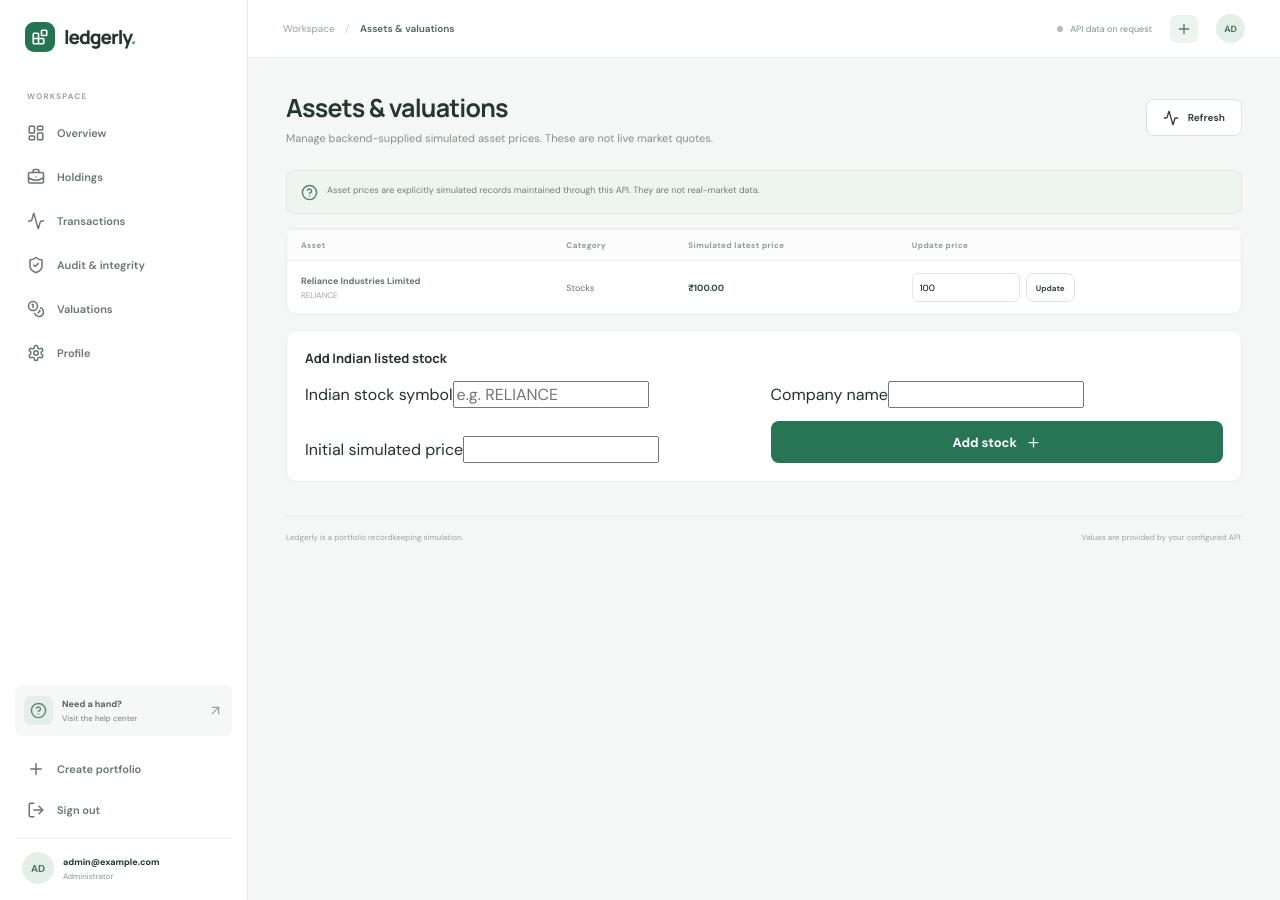
it: admin asset price controls › shows the backend 403 response clearly to an admin when a price update is forbidden
Click the button "Update" at (1050, 288), box [1026,273,1075,302]
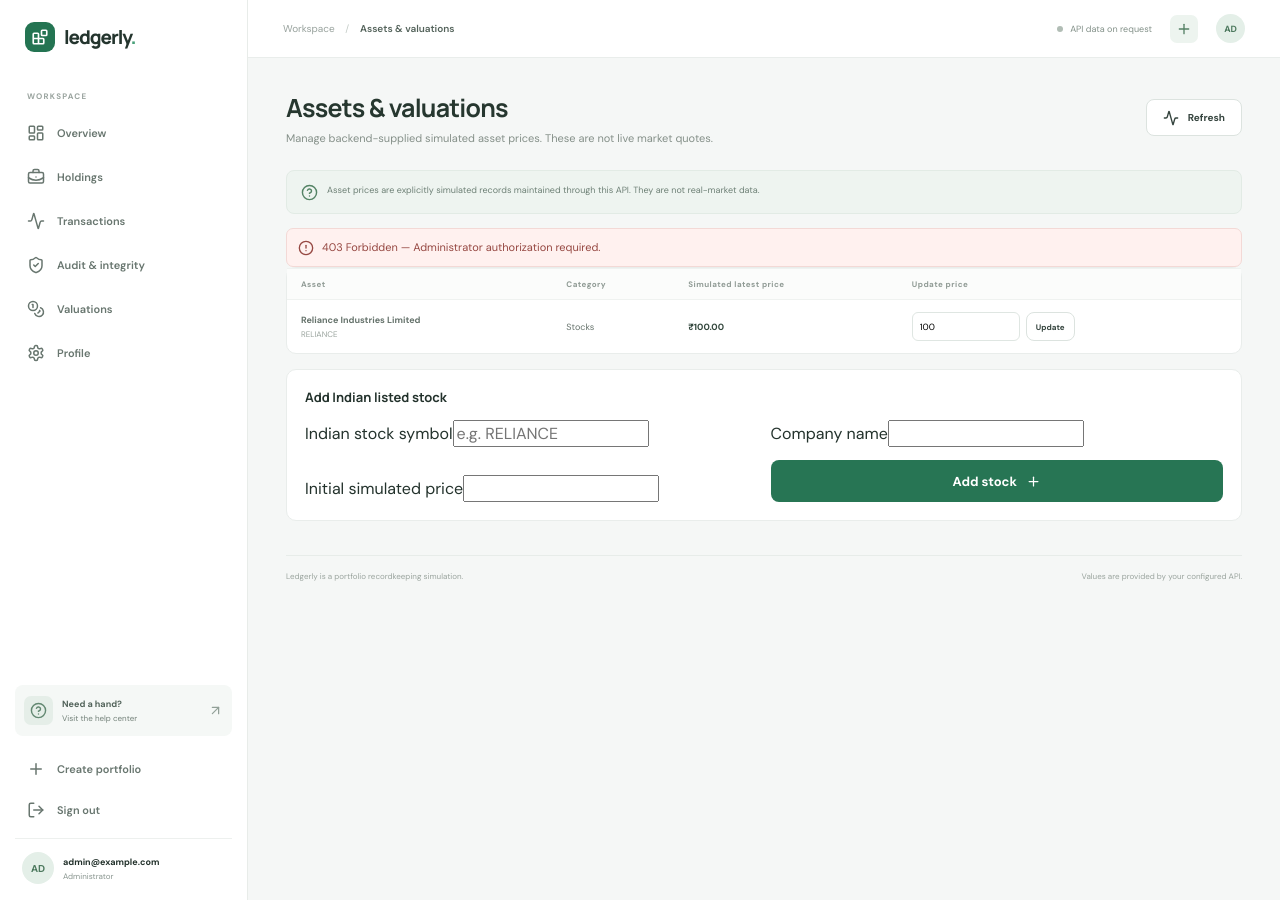
Now the message reads "403 Forbidden — Administrator authorization required.", box [322,240,601,254]
